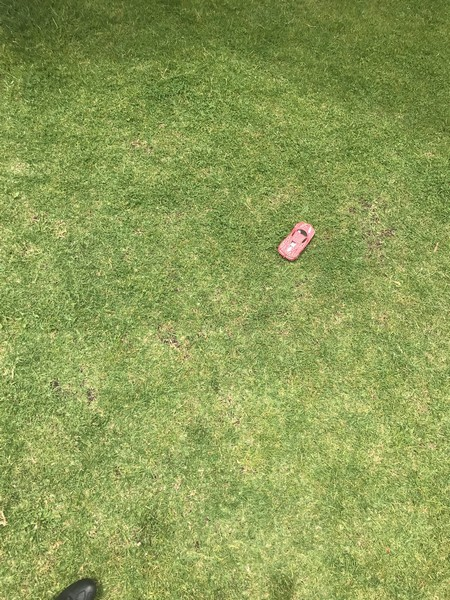RC: (278, 218, 317, 264)
